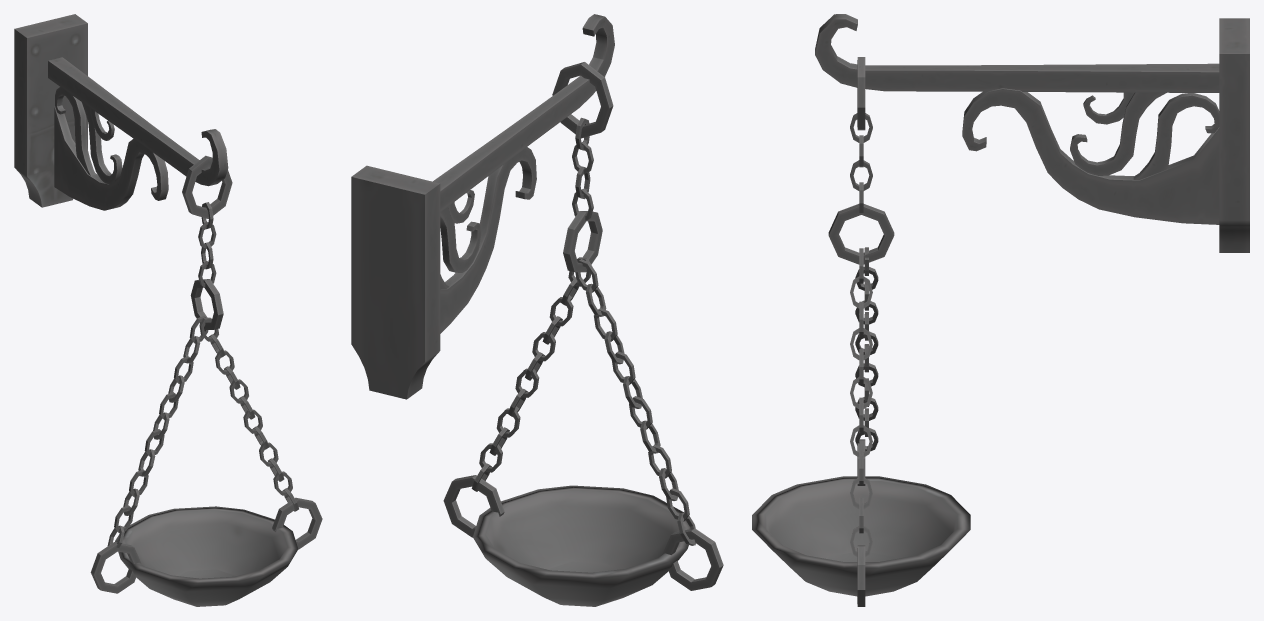
The model's file is SM_ChurchWallBrazier.fbx.
3 views of the same model, side by side, from view 1: azimuth 30°, elevation 25°; view 2: azimuth 150°, elevation 25°; view 3: azimuth 270°, elevation 25° (orthographic). The views are drawn at different scales.
Visible parts, largest first — view 1: SM_ChurchWallBrazier_LOD0; view 2: SM_ChurchWallBrazier_LOD0; view 3: SM_ChurchWallBrazier_LOD0.
Boxes of the visible parts, left/top/right/bottom form: SM_ChurchWallBrazier_LOD0: left=14, top=14, right=322, bottom=606; SM_ChurchWallBrazier_LOD0: left=351, top=14, right=723, bottom=606; SM_ChurchWallBrazier_LOD0: left=752, top=14, right=1249, bottom=606.
Bounding box in the file's own units: 139 × 271 × 218.
